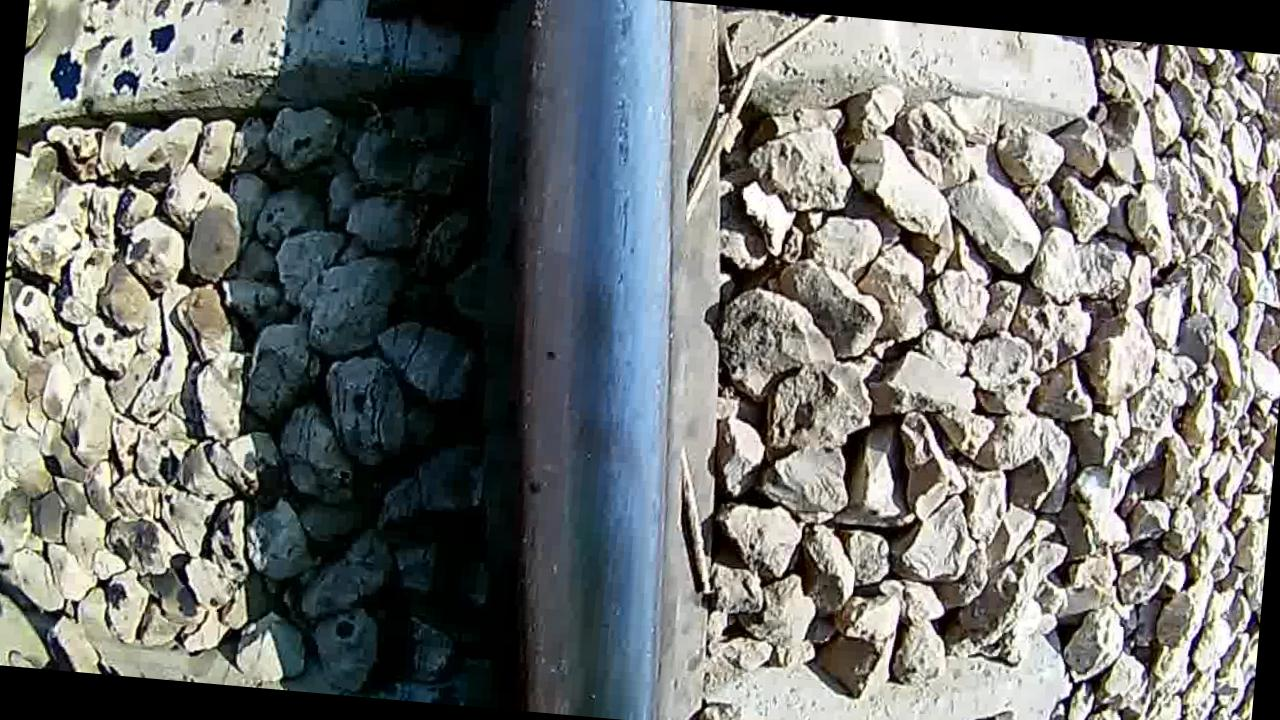crack: (464, 0, 691, 720)
